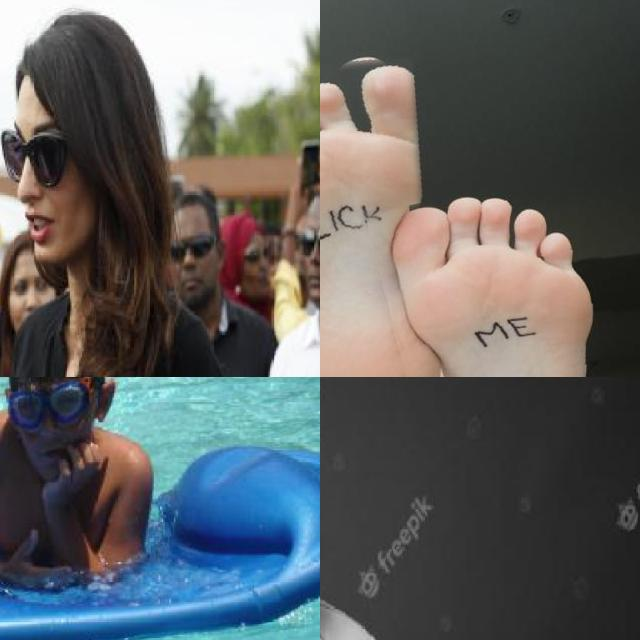Barefoots: (387, 189, 613, 377), (320, 55, 432, 377)
face_nomask: (5, 136, 86, 257), (168, 236, 218, 297), (297, 226, 320, 300)
glasses: (0, 8, 221, 377), (0, 124, 95, 188), (10, 388, 106, 442), (165, 231, 223, 268), (287, 220, 320, 266)
hand_noglove: (39, 436, 113, 506), (2, 530, 75, 594)
head_nohelmet: (5, 0, 143, 105), (169, 182, 222, 220), (304, 178, 320, 218)
person: (0, 377, 153, 598), (320, 377, 409, 640), (251, 168, 320, 377)
